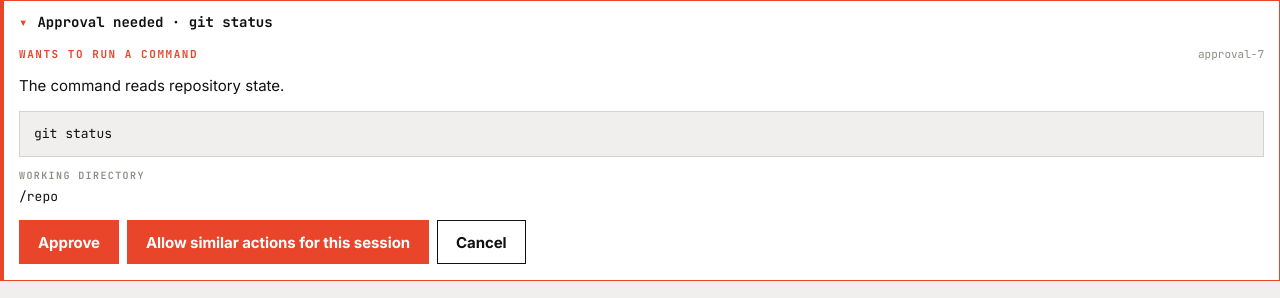
Test: ApprovalEntry › disables every decision as soon as one is submitted
Click the button "Approve" at (69, 242), box x1=19 y1=220 x2=119 y2=264
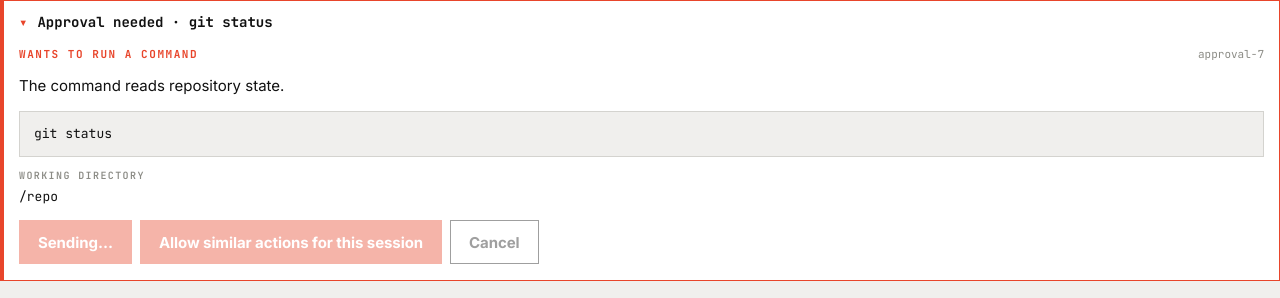
Check: the button "Sending…" is disabled, box x1=19 y1=220 x2=132 y2=264
Check: the button "Allow similar actions for this session" is disabled, box x1=140 y1=220 x2=442 y2=264
Check: the button "Cancel" is disabled, box x1=450 y1=220 x2=538 y2=264
